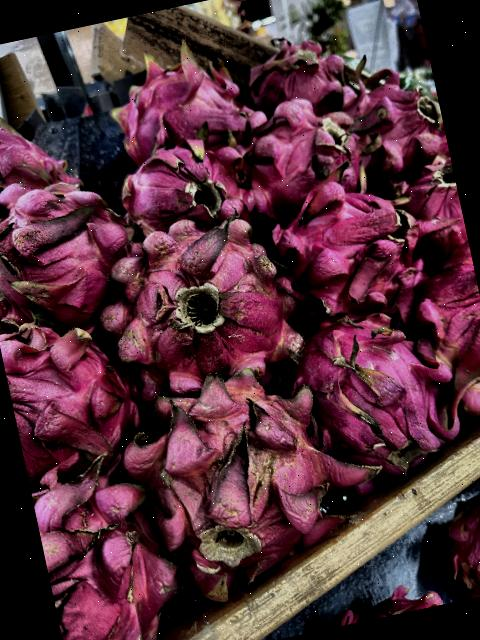buah-naga-matang: (119, 357, 368, 586), (92, 196, 310, 399), (286, 293, 458, 481), (28, 451, 190, 640), (0, 294, 152, 485), (268, 162, 432, 330), (0, 155, 130, 335), (93, 27, 254, 164), (112, 125, 268, 244), (234, 91, 368, 208), (406, 241, 480, 425), (346, 51, 450, 170), (233, 22, 350, 122), (0, 106, 87, 212), (392, 156, 468, 254), (436, 466, 480, 600)
